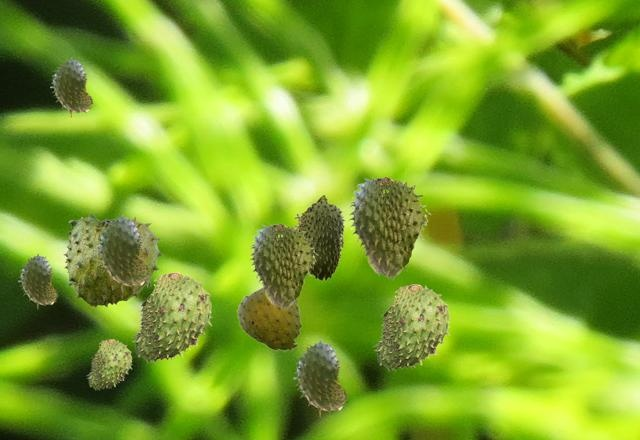guyabano: (63, 212, 162, 306), (347, 176, 430, 279), (131, 272, 211, 362), (373, 284, 449, 370), (248, 223, 317, 309), (294, 194, 345, 280), (236, 287, 301, 351), (293, 339, 347, 416), (95, 214, 149, 291), (50, 57, 92, 116), (86, 339, 131, 389), (18, 253, 57, 308)
